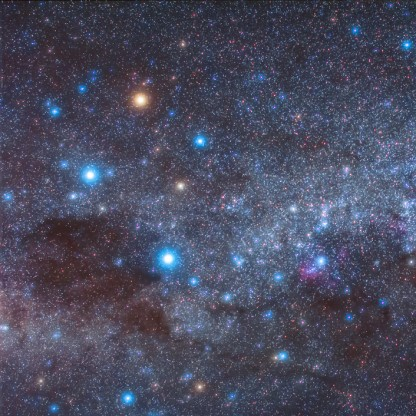Southern Cross: (125, 84, 154, 121), (153, 241, 182, 278), (183, 128, 218, 158), (77, 154, 105, 190)
